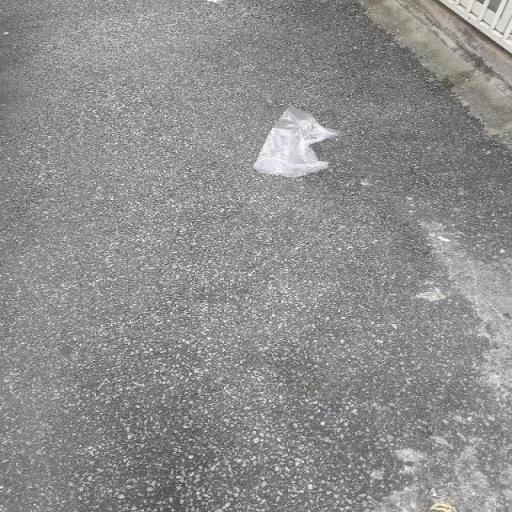plastic-bag: (252, 101, 348, 179)
